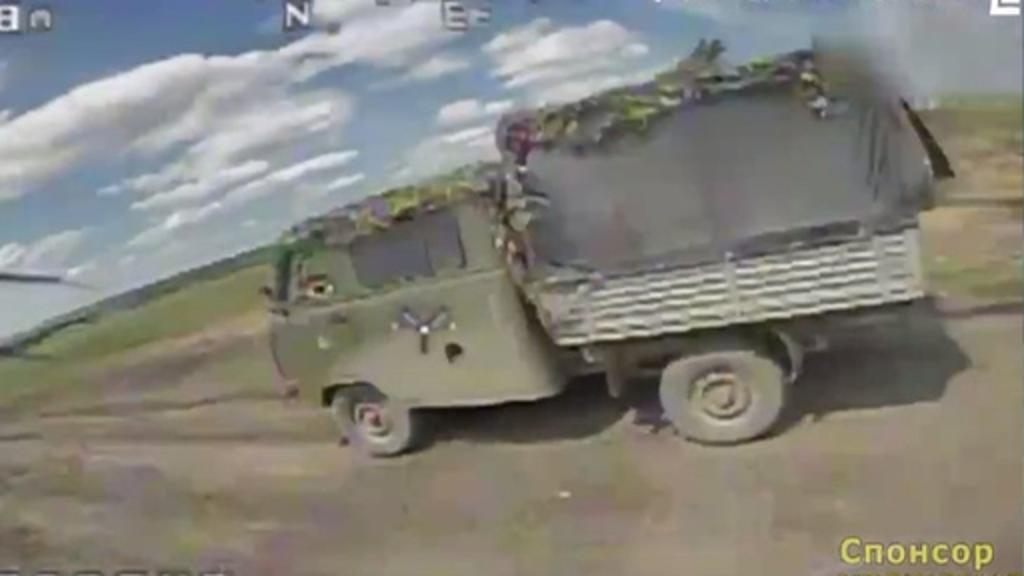TRUCK: (264, 28, 940, 466)
